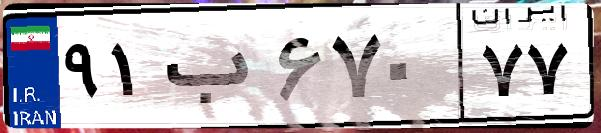0: (385, 28, 445, 110)
1: (110, 28, 158, 98)
6: (270, 28, 330, 110)
7: (330, 28, 385, 110), (475, 38, 525, 113), (525, 38, 570, 115)
9: (57, 26, 110, 100)
ب: (158, 20, 270, 120)
